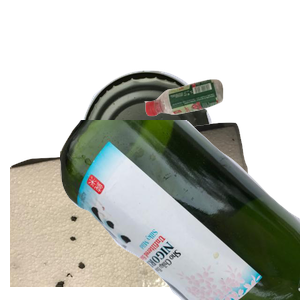glass: (60, 120, 300, 300)
metal: (80, 68, 284, 248)
plastic: (142, 77, 300, 186)
trash: (10, 120, 250, 300)
